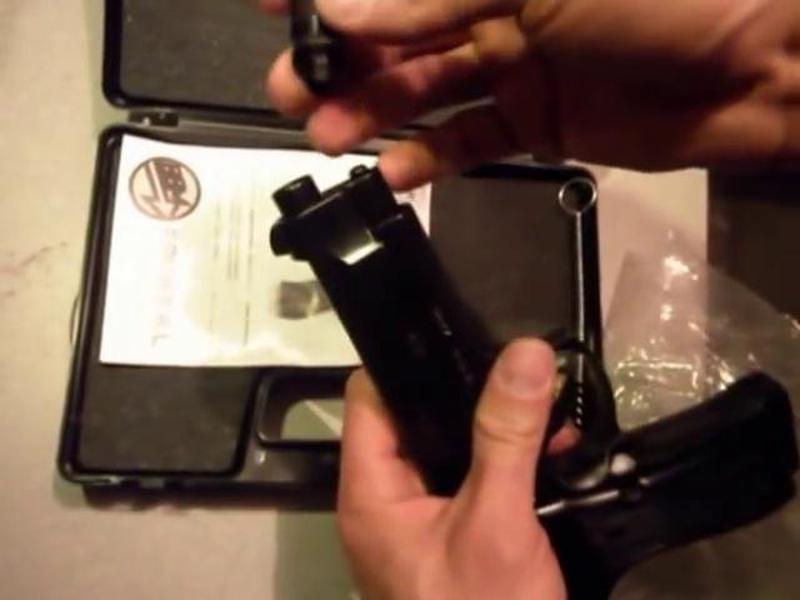Pistola: (253, 146, 799, 600)
